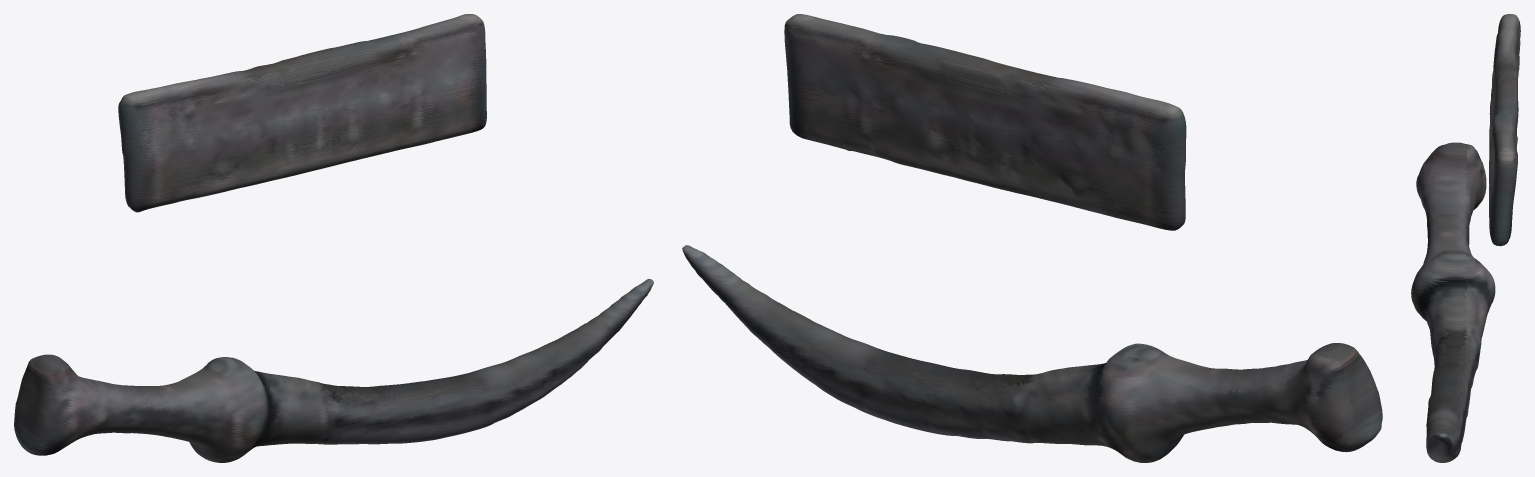
The model's file is kfl-2179.glb.
The picture shows the model from 3 angles, left to right: view 1: azimuth 30°, elevation 25°; view 2: azimuth 150°, elevation 25°; view 3: azimuth 270°, elevation 25°; orthographic projection. The views are drawn at different scales.
Parts seen in each view (by area): view 1: geometry_0; view 2: geometry_0; view 3: geometry_0.
Boxes of the visible parts, x1,y1,x2,y2 form: geometry_0: (14,14,653,462); geometry_0: (682,14,1382,462); geometry_0: (1411,14,1520,462).
Bounding box in the file's own units: 0.987 × 0.5742 × 0.1801.
1 material, 1 textured.
